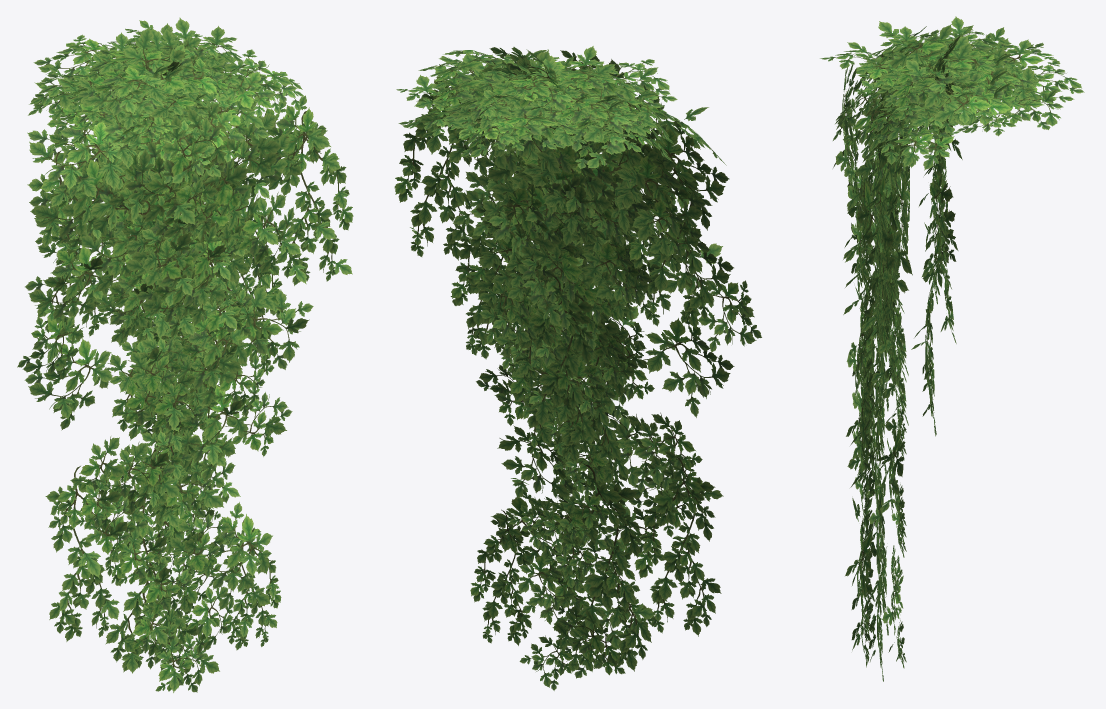
Rendered from HangingIvy.FBX.
The picture shows the model from 3 angles, left to right: view 1: azimuth 30°, elevation 25°; view 2: azimuth 150°, elevation 25°; view 3: azimuth 270°, elevation 25°; orthographic projection. The views are drawn at different scales.
Visible parts, largest first — view 1: IvySmallPlaneLongWide, IvyBigPlaneIvyLong, IvySmallPlaneLongLong, IvySmallPlaneWide, IvySmallPlaneFlatBig, IvySmallPlaneLong, IvySmallPlaneLong001, IvySmallPlaneFlat1; view 2: IvySmallPlaneLongWide, IvySmallPlaneLongLong, IvySmallPlaneWide, IvySmallPlaneLong001, IvySmallPlaneFlatBig, IvySmallPlaneShort, IvySmallPlaneLong, IvyBigPlaneIvyLong, IvySmallPlaneFlat1; view 3: IvySmallPlaneLongWide, IvySmallPlaneFlatBig, IvySmallPlaneLongLong, IvyBigPlaneIvyLong, IvySmallPlaneWide, IvySmallPlaneLong001, IvySmallPlaneLong, IvySmallPlaneShort, IvySmallPlaneFlat1.
Part boxes in pixels (<box>): IvySmallPlaneLongWide: <box>17,26,353,692</box>; IvyBigPlaneIvyLong: <box>70,41,278,528</box>; IvySmallPlaneLongLong: <box>59,27,278,674</box>; IvySmallPlaneWide: <box>27,17,302,398</box>; IvySmallPlaneFlatBig: <box>29,20,256,143</box>; IvySmallPlaneLong: <box>59,41,237,490</box>; IvySmallPlaneLong001: <box>82,27,201,440</box>; IvySmallPlaneFlat1: <box>39,36,241,120</box>; IvySmallPlaneLongWide: <box>394,49,761,678</box>; IvySmallPlaneLongLong: <box>446,58,677,690</box>; IvySmallPlaneWide: <box>417,65,713,386</box>; IvySmallPlaneLong001: <box>478,47,616,462</box>; IvySmallPlaneFlatBig: <box>396,46,677,156</box>; IvySmallPlaneShort: <box>464,49,614,303</box>; IvySmallPlaneLong: <box>443,68,635,484</box>; IvyBigPlaneIvyLong: <box>444,50,682,500</box>; IvySmallPlaneFlat1: <box>443,56,623,149</box>; IvySmallPlaneLongWide: <box>843,21,1003,681</box>; IvySmallPlaneFlatBig: <box>820,16,1084,136</box>; IvySmallPlaneLongLong: <box>862,24,1032,668</box>; IvyBigPlaneIvyLong: <box>833,35,1041,498</box>; IvySmallPlaneWide: <box>866,36,1023,407</box>; IvySmallPlaneLong001: <box>911,33,961,436</box>; IvySmallPlaneLong: <box>862,35,1025,474</box>; IvySmallPlaneShort: <box>917,53,962,273</box>; IvySmallPlaneFlat1: <box>854,33,1043,126</box>.
Size of the model in its own units: 213 by 376 by 158.
